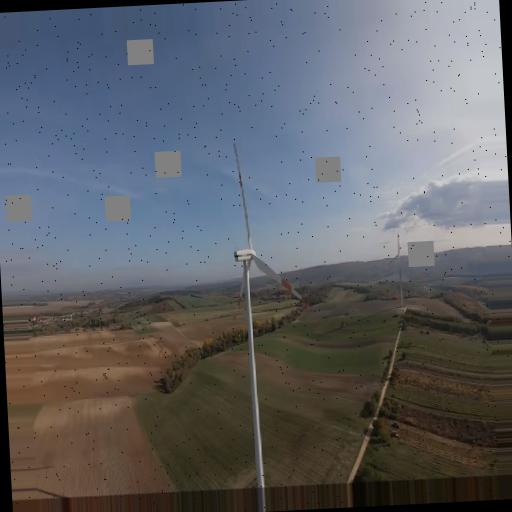wind turbine: (229, 141, 301, 487)
